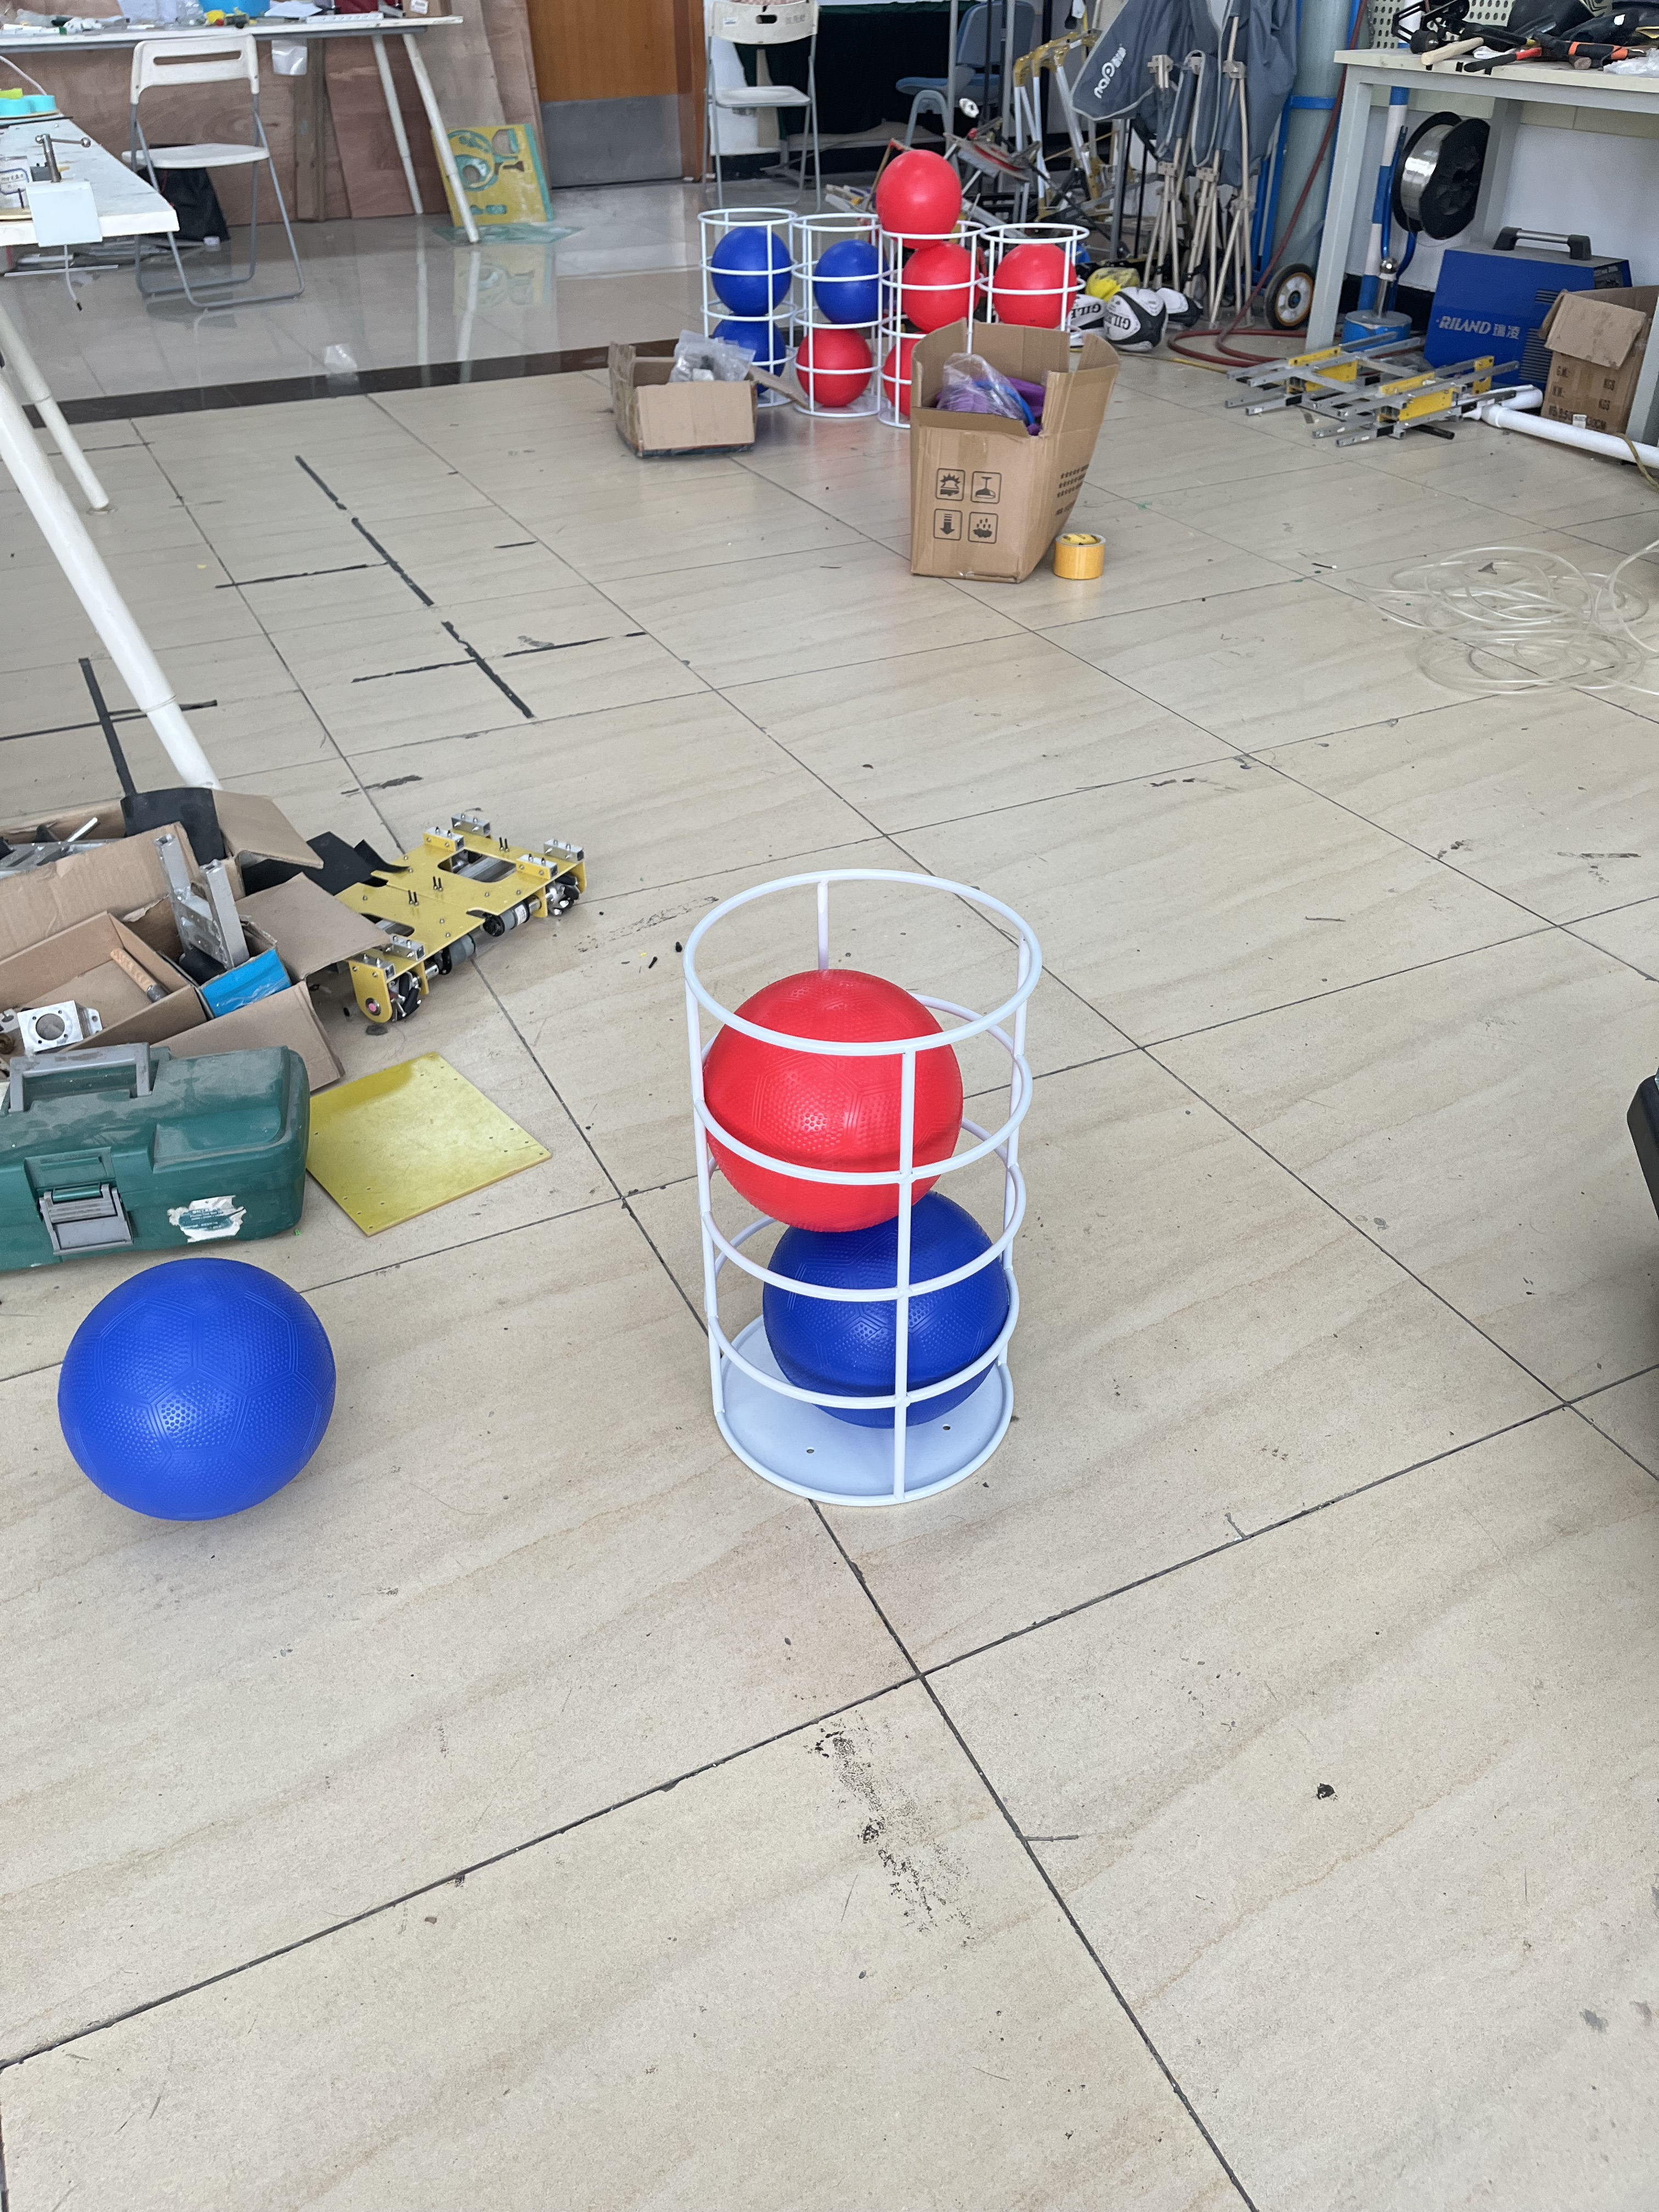blacket: (659, 833, 1061, 1524), (690, 190, 800, 425), (882, 219, 990, 442), (789, 199, 887, 428)
blue: (45, 1258, 359, 1527), (755, 1202, 1026, 1437), (706, 219, 795, 324), (803, 235, 896, 334)
red: (694, 961, 971, 1247), (873, 139, 971, 256), (992, 235, 1082, 336), (897, 235, 986, 333), (795, 314, 880, 411)
